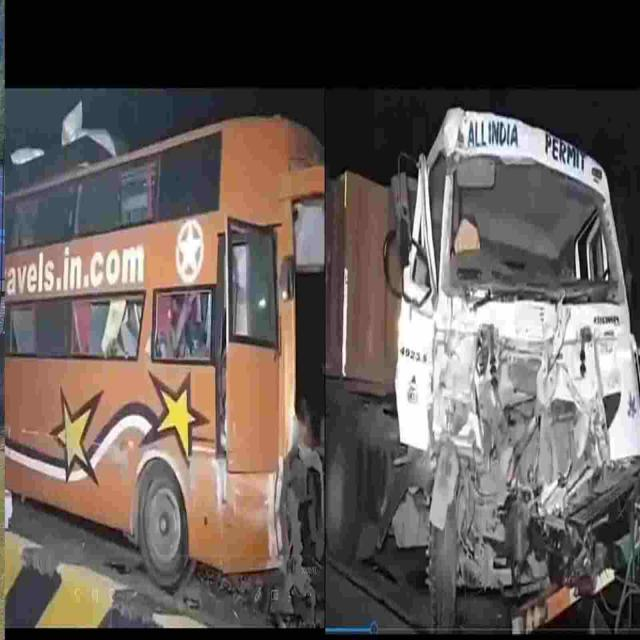accident: (326, 108, 640, 633), (5, 115, 325, 622)
